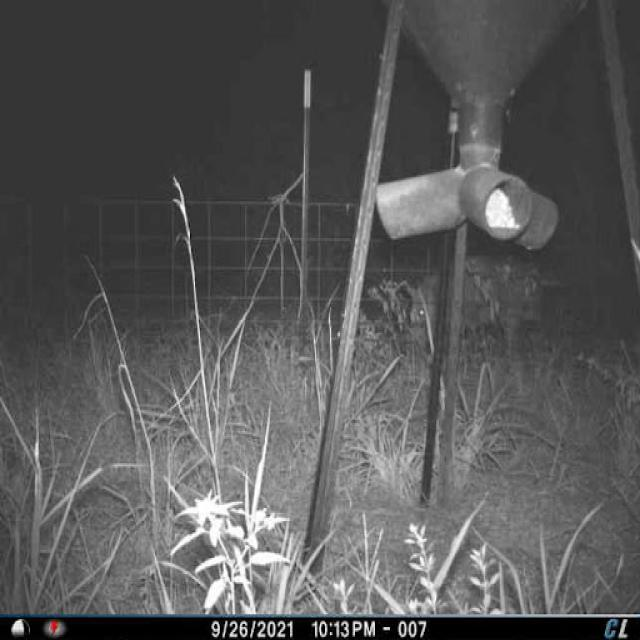wild boar: (405, 240, 541, 366)
